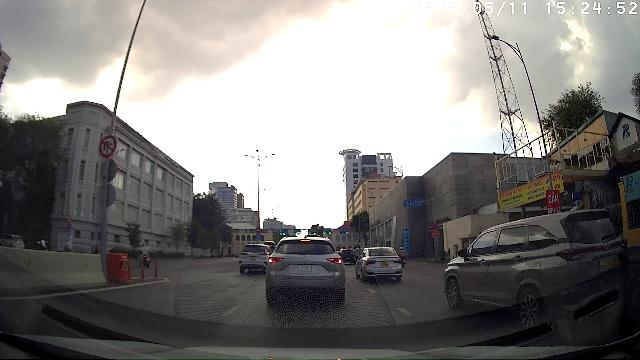124b-cam-oto-quay-dau-xe: (99, 134, 117, 158)
